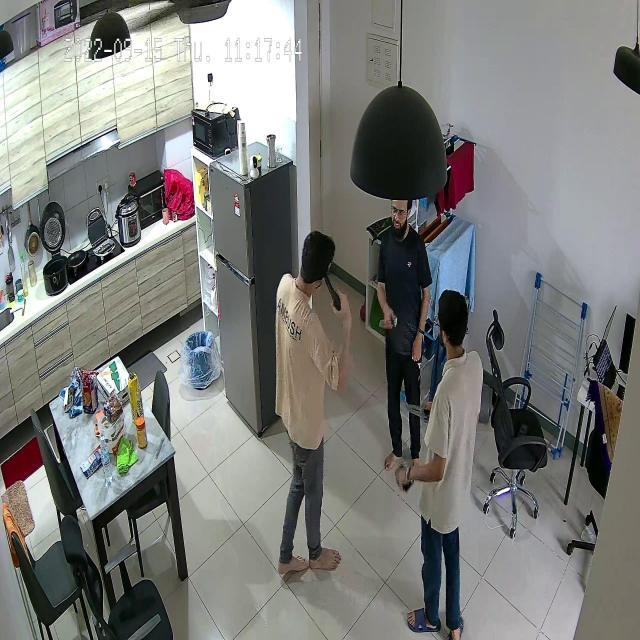Gun: (317, 272, 345, 318)
Knife: (397, 388, 436, 428)
